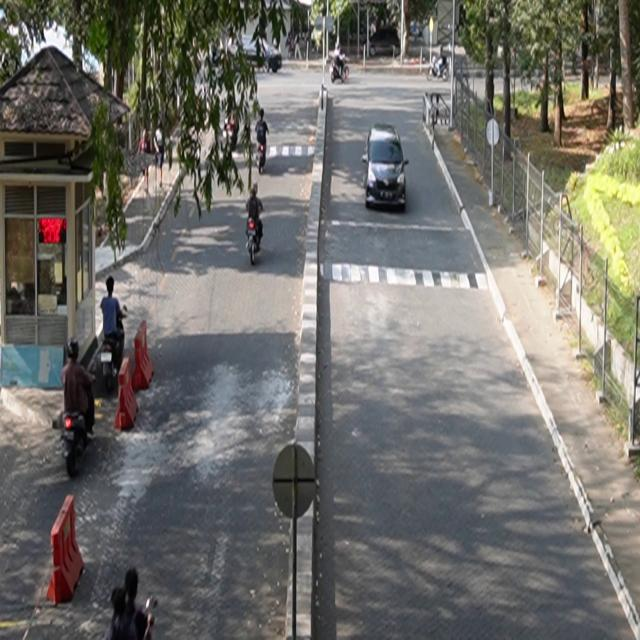car: (362, 123, 410, 212)
